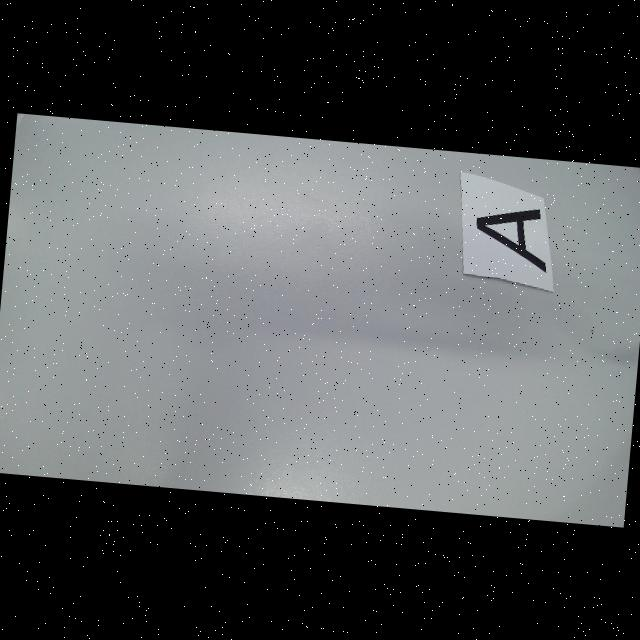FAKE: (472, 204, 552, 272)
